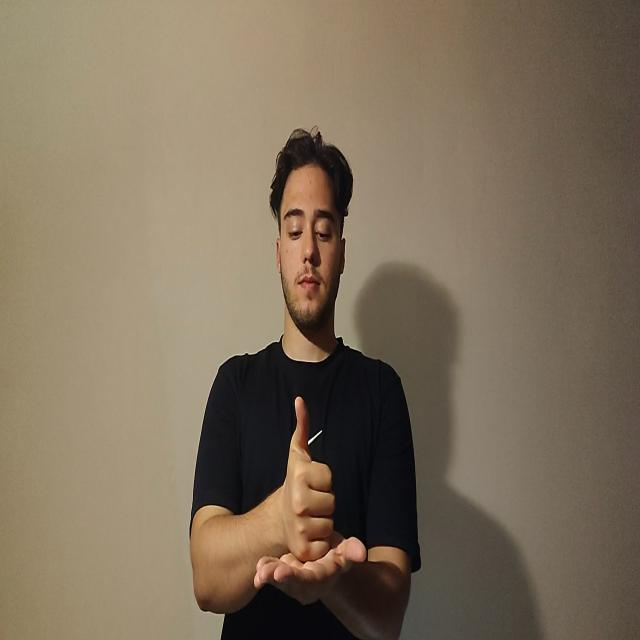help: (255, 394, 362, 596)
